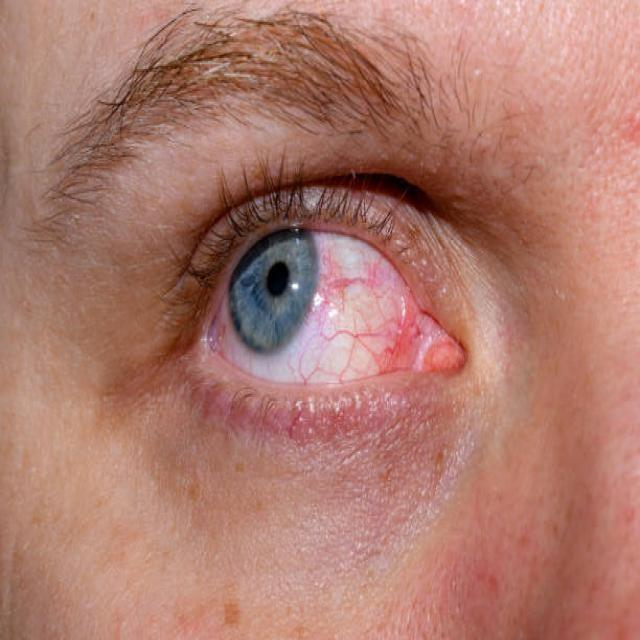Conjunctivitis: (247, 250, 468, 390)
